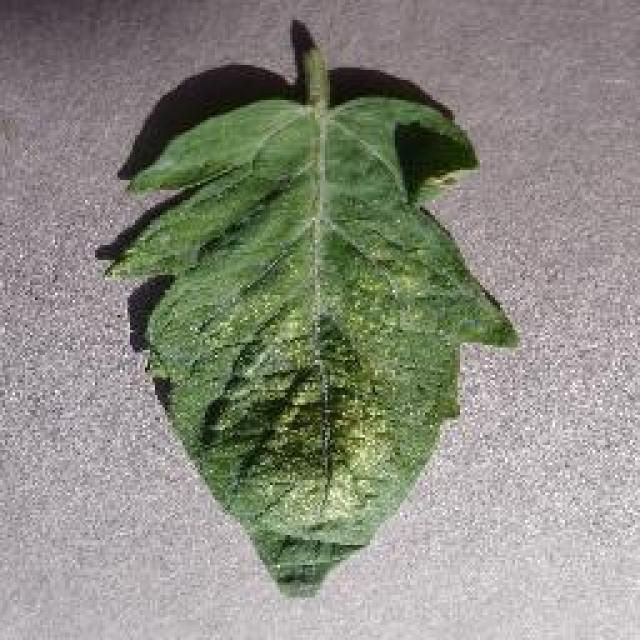Tomato___Spider_mites Two-spotted_spider_mite: (108, 35, 515, 595)
